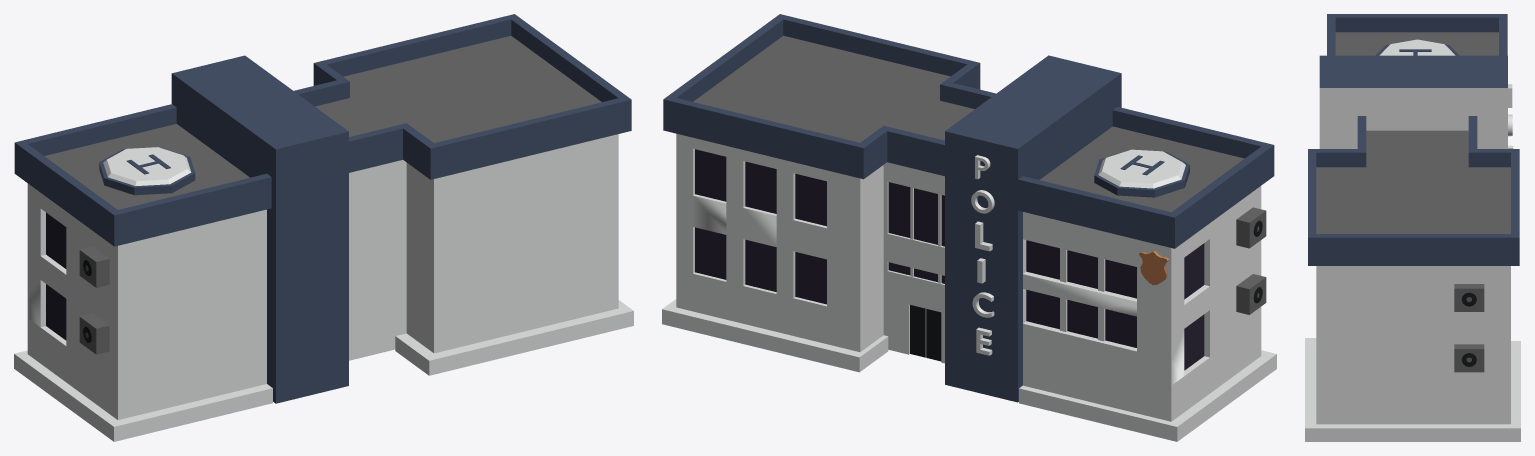
The model's file is policel.fbx.
The picture shows the model from 3 angles, left to right: view 1: azimuth 30°, elevation 25°; view 2: azimuth 150°, elevation 25°; view 3: azimuth 270°, elevation 25°; orthographic projection. The views are drawn at different scales.
Visible parts, largest first — view 1: police station; view 2: police station; view 3: police station.
Boxes of the visible parts, left/top/right/bottom form: police station: left=14, top=14, right=633, bottom=441; police station: left=662, top=14, right=1276, bottom=441; police station: left=1305, top=14, right=1520, bottom=441.
Bounding box in the file's own units: 2334 × 1106 × 934.
